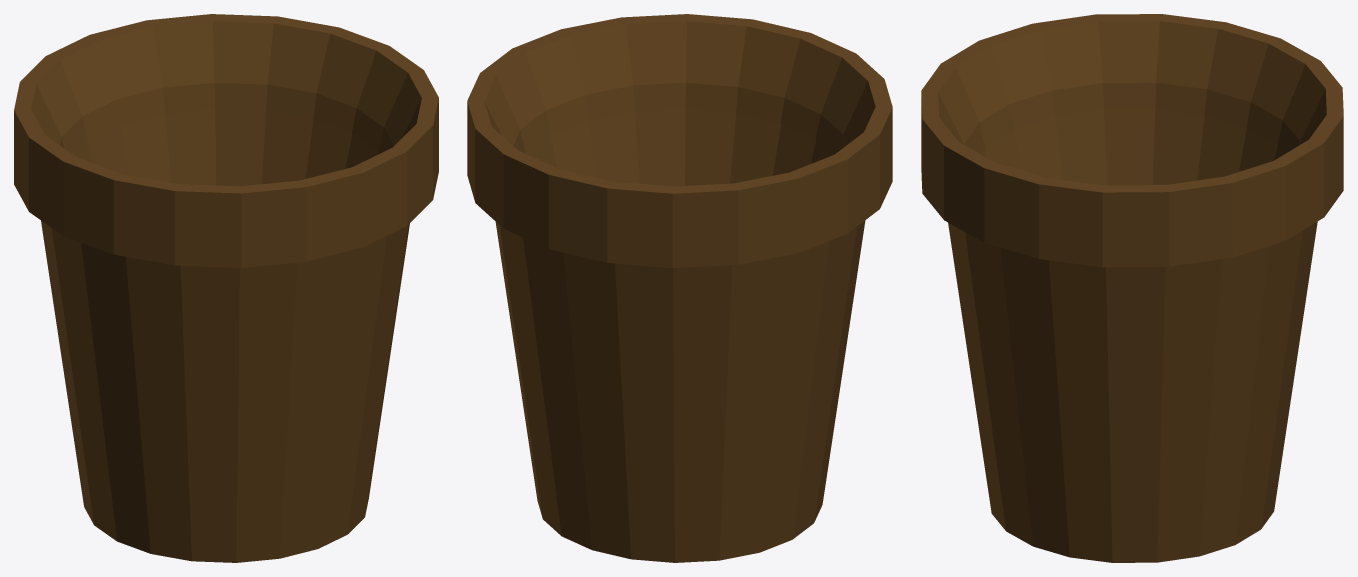
The picture shows the model from 3 angles, left to right: view 1: azimuth 30°, elevation 25°; view 2: azimuth 150°, elevation 25°; view 3: azimuth 270°, elevation 25°; orthographic projection.
Parts seen in each view (by area): view 1: pot; view 2: pot; view 3: pot.
Part boxes in pixels (<box>): pot: <box>14,14,438,562</box>; pot: <box>467,14,892,562</box>; pot: <box>921,14,1343,562</box>.
Bounding box in the file's own units: 0.2874 × 0.3 × 0.2874.
